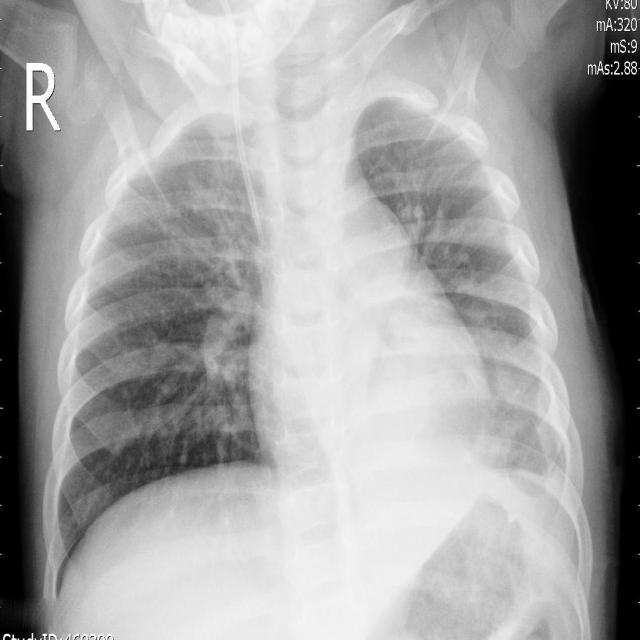low-pneumonia: (169, 112, 257, 444), (469, 318, 557, 472)
